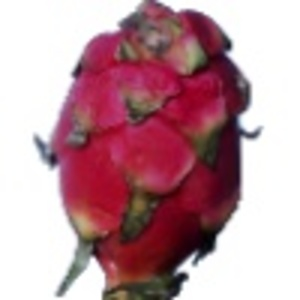pitaia: (33, 1, 264, 300)
